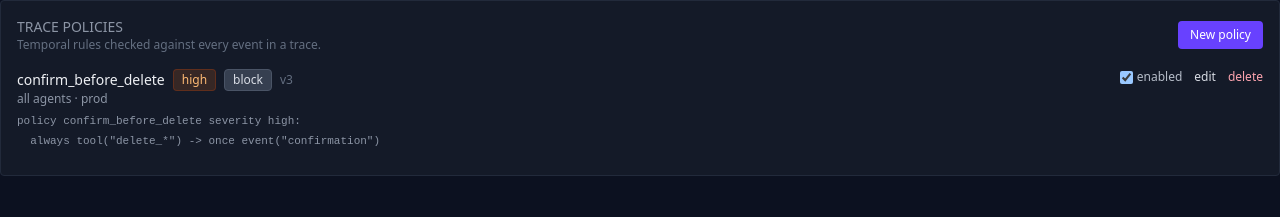
Scenario: TracePolicies › shows a write error such as a non-admin 403
The image size is (1280, 217).
Click the checkbox at [1126, 77], box x1=1120 y1=70 x2=1133 y2=84
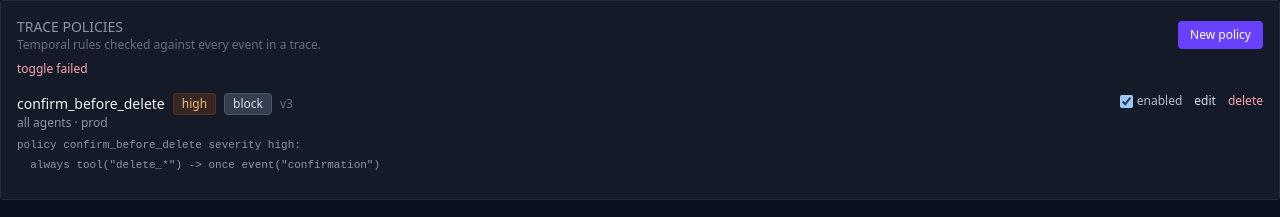
Result: the text "toggle failed" is shown at x1=17 y1=60 x2=88 y2=77
Click the button "delete" at [1245, 101], box x1=1228 y1=93 x2=1263 y2=109
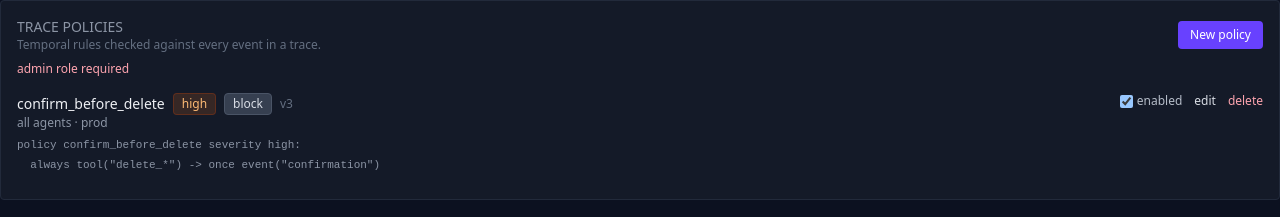
Result: the text "admin role required" is shown at x1=17 y1=60 x2=129 y2=77
Result: the text "toggle failed" is gone
